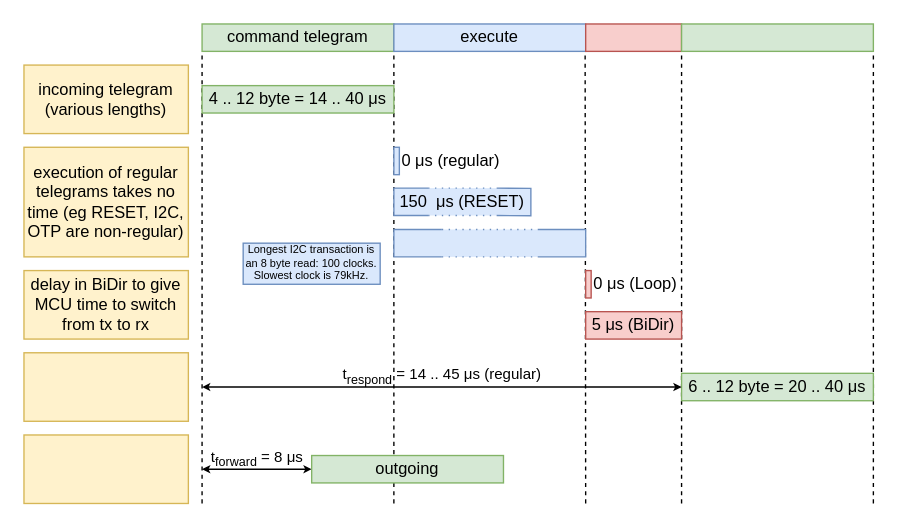
Some shapes in this 899 by 529 pixel diagram are drawn without their labels. The centre of each missing label's shape, as x and y in pixels:
"delay" belongs at pixel 633 37.
"forward telegram (when address does not match)" belongs at pixel 105 468.
"max 1300 μs (I2C)" belongs at pixel 489 242.
"outgoing telegram (various lengths)" belongs at pixel 105 386.
"response telegram" belongs at pixel 776 37.
